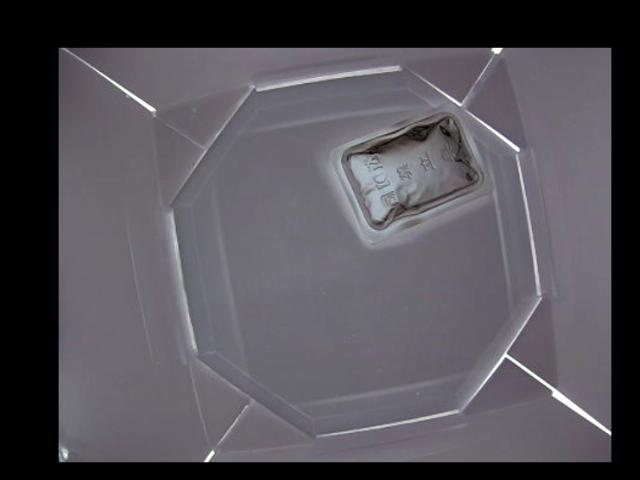Medicine: (325, 101, 493, 247)
